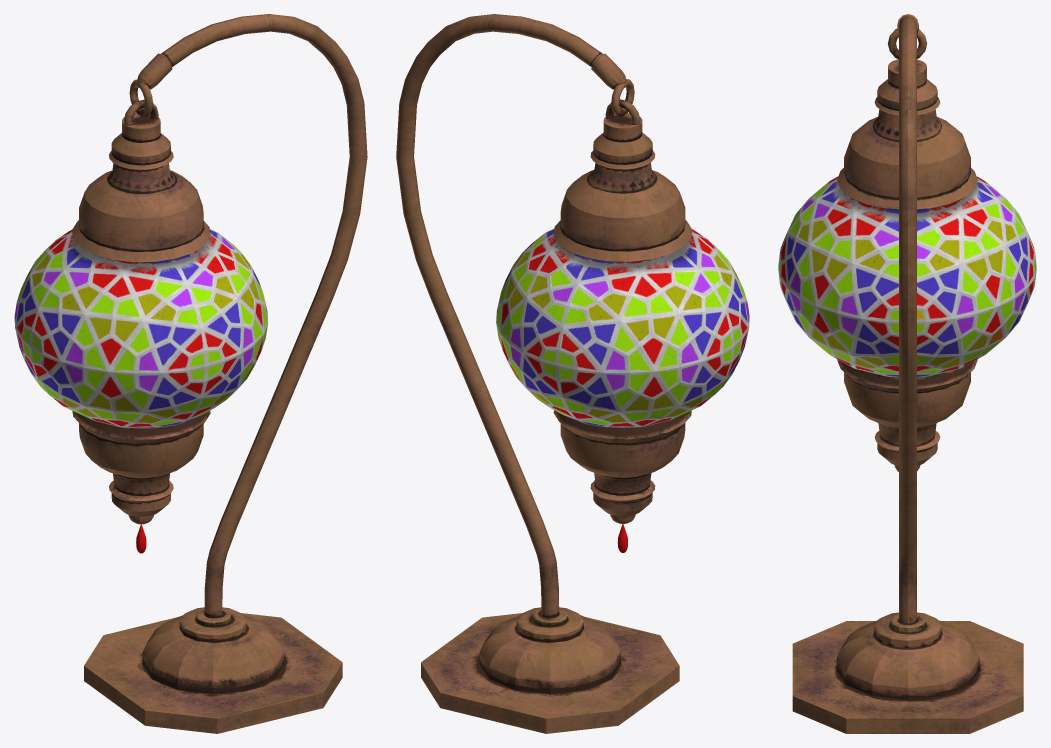
File: TurkishLamp.fbx
3 renders of one model, left to right at view 1: azimuth 30°, elevation 25°; view 2: azimuth 150°, elevation 25°; view 3: azimuth 270°, elevation 25°, orthographic.
Visible parts, largest first — view 1: TurkishLamp; view 2: TurkishLamp; view 3: TurkishLamp.
Boxes of the visible parts, <box> form: TurkishLamp: <box>14,14,367,733</box>; TurkishLamp: <box>396,14,749,733</box>; TurkishLamp: <box>778,14,1036,733</box>.
Bounding box in the file's own units: 264 × 491 × 174.
1 material, 1 textured.
